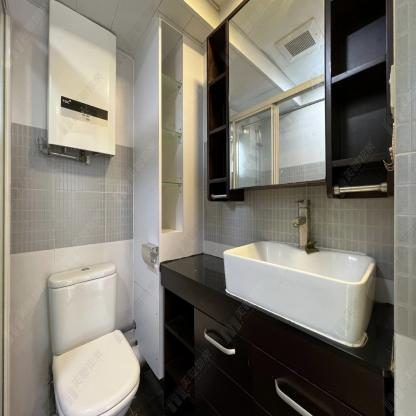Toilet: (48, 261, 139, 416)
Toilet Sink: (221, 239, 376, 348)
Water Heater: (46, 0, 116, 159)
